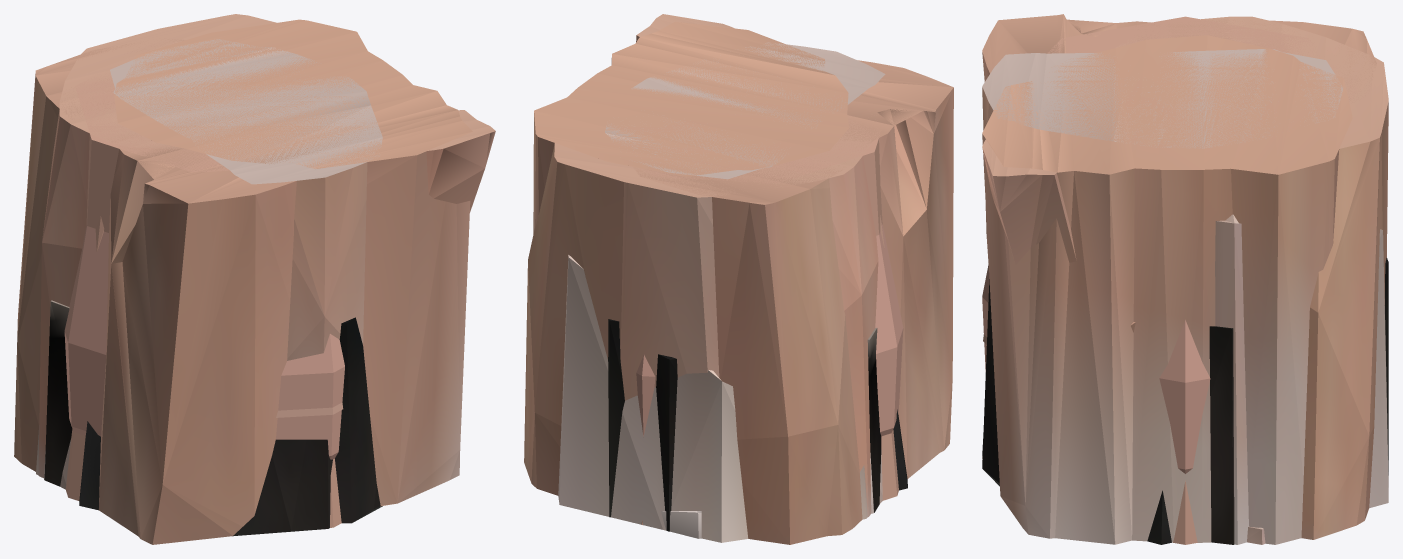
Rendered from hand_engineer.fbx.
3 renders of one model, left to right at view 1: azimuth 30°, elevation 25°; view 2: azimuth 150°, elevation 25°; view 3: azimuth 270°, elevation 25°, orthographic. The views are drawn at different scales.
Parts seen in each view (by area): view 1: Right_palm, Left_cuff, Right_cuff, Left_palm, Left_finger0_tip, Right_forearm, Left_forearm, Left_finger0_distal; view 2: Right_palm, Left_palm, Left_cuff, Right_cuff, Left_finger0_tip, Left_finger0_distal, Right_forearm, Left_forearm; view 3: Left_cuff, Left_palm, Right_cuff, Right_palm, Left_forearm, Left_finger0_distal, Left_finger0_tip, Right_forearm.
Boxes of the visible parts, x1=… form: Right_palm: x1=14, y1=38, x2=296, y2=544; Left_cuff: x1=44, y1=19, x2=472, y2=506; Right_cuff: x1=36, y1=39, x2=382, y2=489; Left_palm: x1=38, y1=14, x2=495, y2=478; Left_finger0_tip: x1=64, y1=225, x2=344, y2=459; Right_forearm: x1=44, y1=300, x2=382, y2=523; Left_forearm: x1=79, y1=421, x2=332, y2=536; Left_finger0_distal: x1=65, y1=42, x2=341, y2=527; Right_palm: x1=633, y1=60, x2=953, y2=544; Left_palm: x1=524, y1=14, x2=884, y2=516; Left_cuff: x1=533, y1=21, x2=873, y2=538; Right_cuff: x1=558, y1=42, x2=885, y2=542; Left_finger0_tip: x1=636, y1=224, x2=903, y2=436; Left_finger0_distal: x1=640, y1=120, x2=898, y2=524; Right_forearm: x1=656, y1=328, x2=881, y2=531; Left_forearm: x1=608, y1=319, x2=907, y2=517; Left_cuff: x1=982, y1=35, x2=1352, y2=544; Left_palm: x1=982, y1=16, x2=1388, y2=539; Right_cuff: x1=982, y1=49, x2=1388, y2=544; Right_palm: x1=982, y1=14, x2=1376, y2=544; Left_forearm: x1=982, y1=258, x2=1388, y2=544; Left_finger0_distal: x1=982, y1=16, x2=1359, y2=544; Left_finger0_tip: x1=982, y1=264, x2=1210, y2=473; Right_forearm: x1=982, y1=258, x2=1387, y2=544.
Size of the model in its own units: 1 by 1 by 1.
